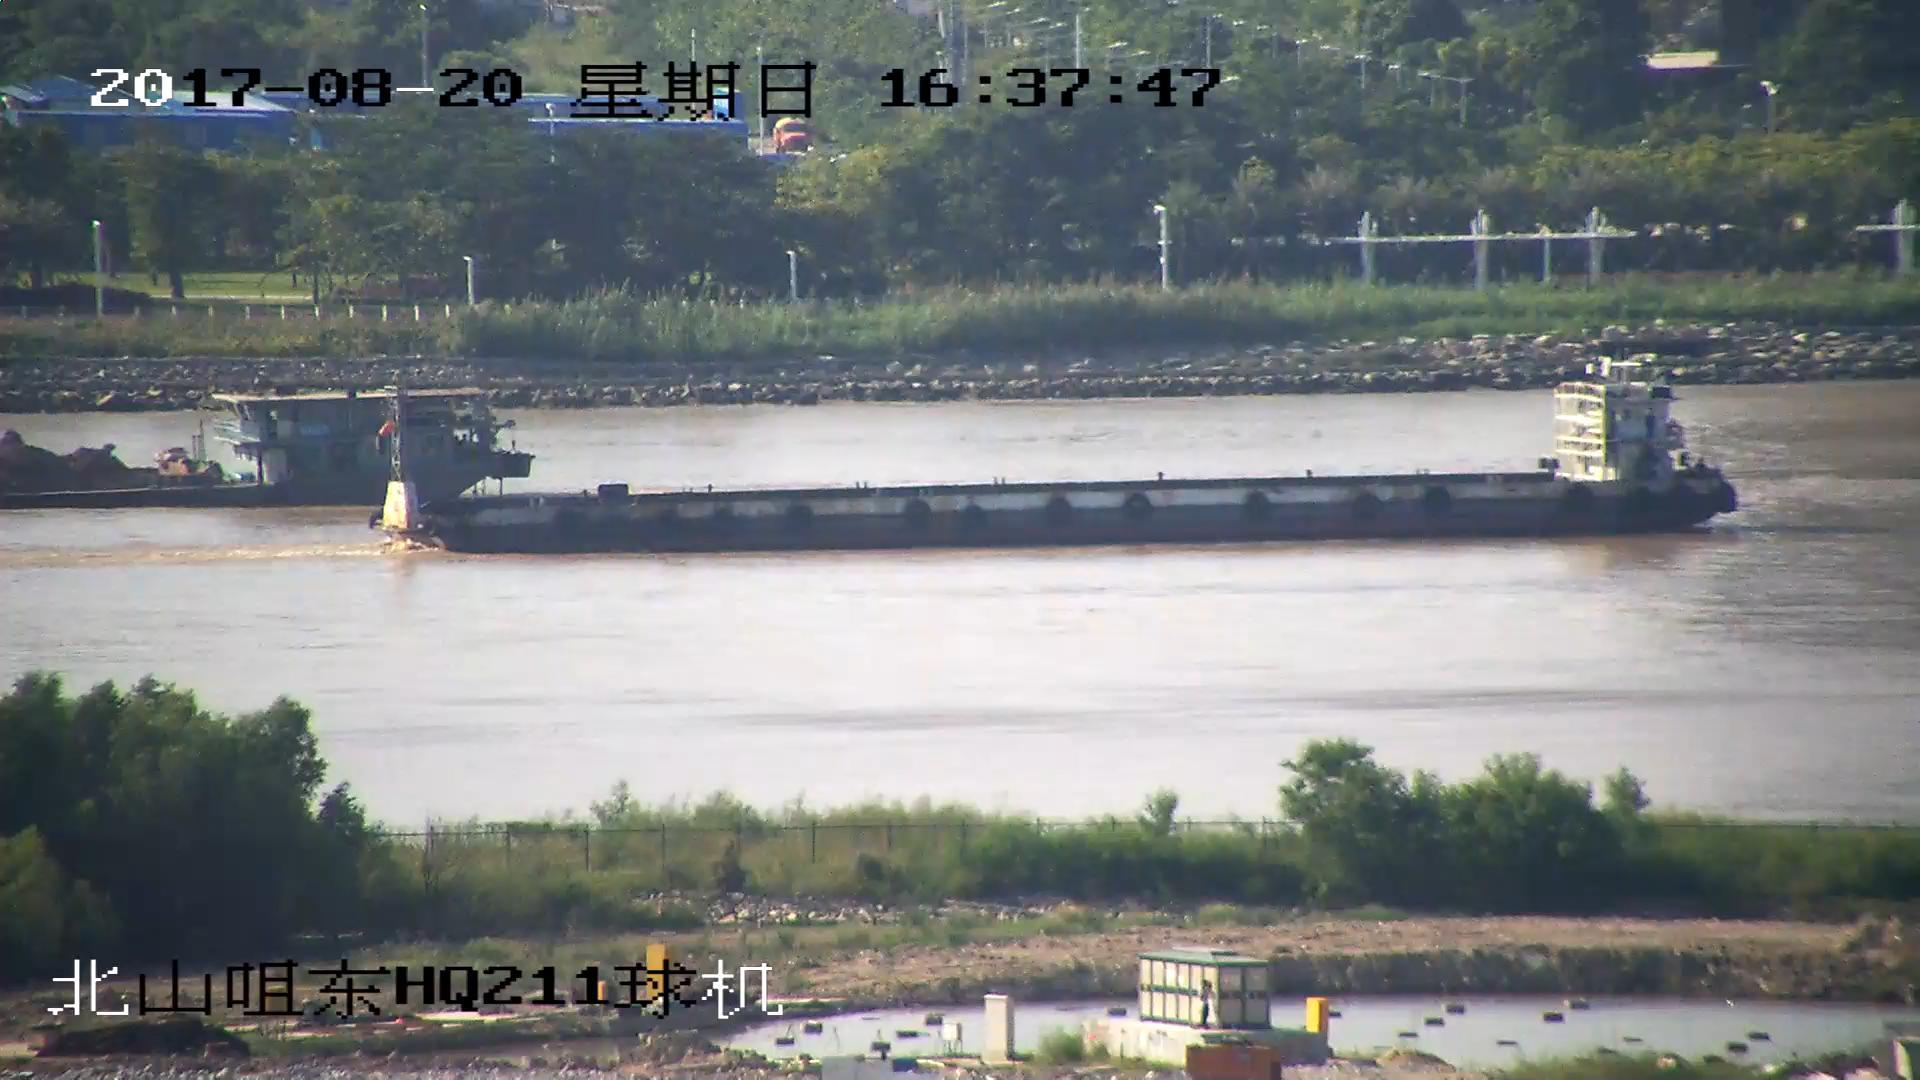Ship: (382, 367, 1745, 555), (3, 404, 527, 512)
